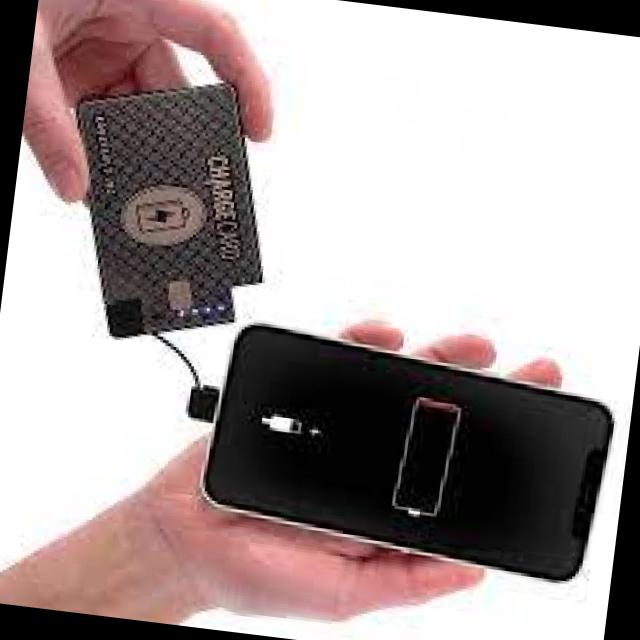portable-charger: (48, 61, 284, 366)
